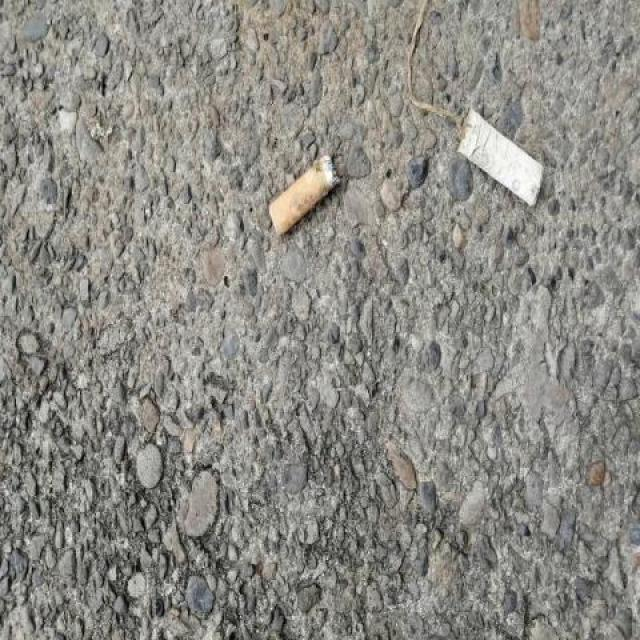non-organic waste: (452, 102, 548, 210), (266, 150, 342, 241)
